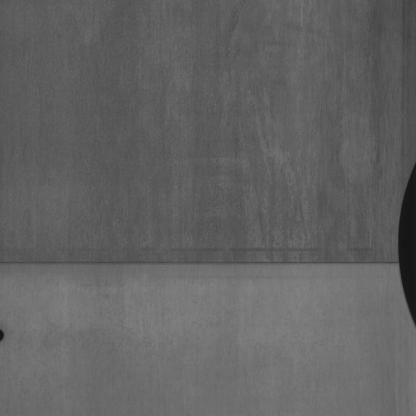crescent_gap: (391, 136, 416, 333)
punching_hole: (0, 328, 7, 342)
welding_line: (0, 244, 402, 276)
